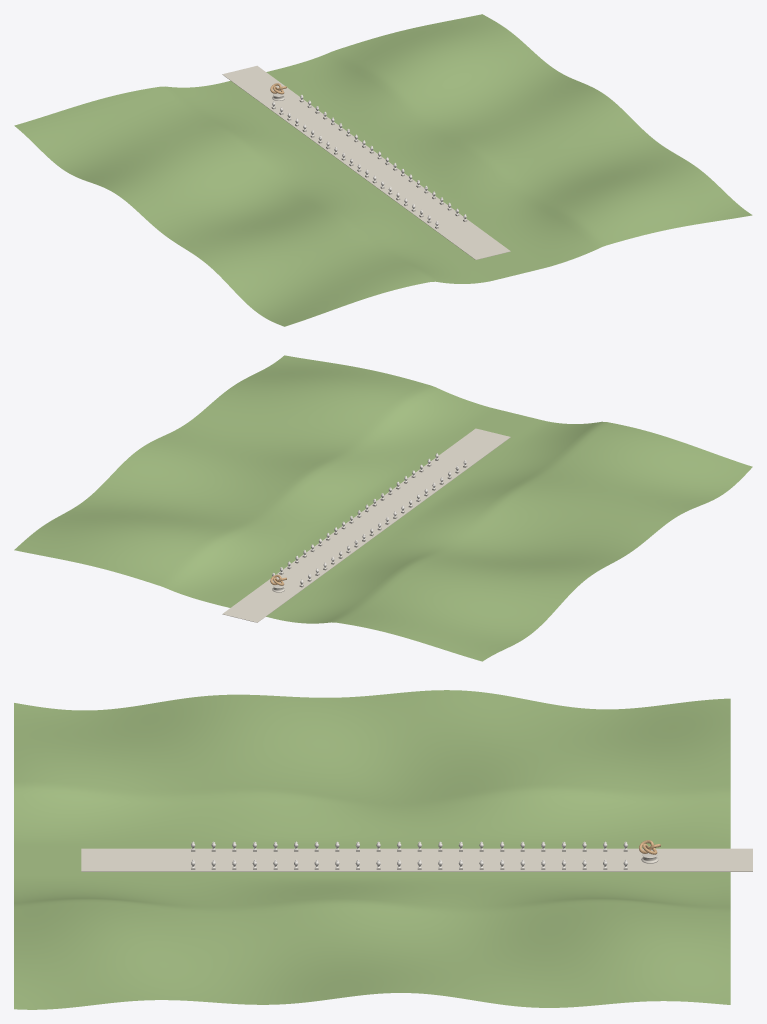
Rendered from source.gltf.
The picture shows the model from 3 angles, top to bottom: view 1: azimuth 30°, elevation 25°; view 2: azimuth 150°, elevation 25°; view 3: azimuth 270°, elevation 25°; orthographic projection. The views are drawn at different scales.
Parts seen in each view (by area): view 1: meadow, avenue; view 2: meadow, avenue; view 3: meadow, avenue.
Part boxes in pixels (<box>): meadow: <box>14,14,752,326</box>; avenue: <box>222,65,510,259</box>; meadow: <box>14,355,752,661</box>; avenue: <box>222,428,510,622</box>; meadow: <box>14,690,730,1009</box>; avenue: <box>81,848,752,871</box>.
Size of the model in its own units: 16 by 0.5939 by 16.5.
